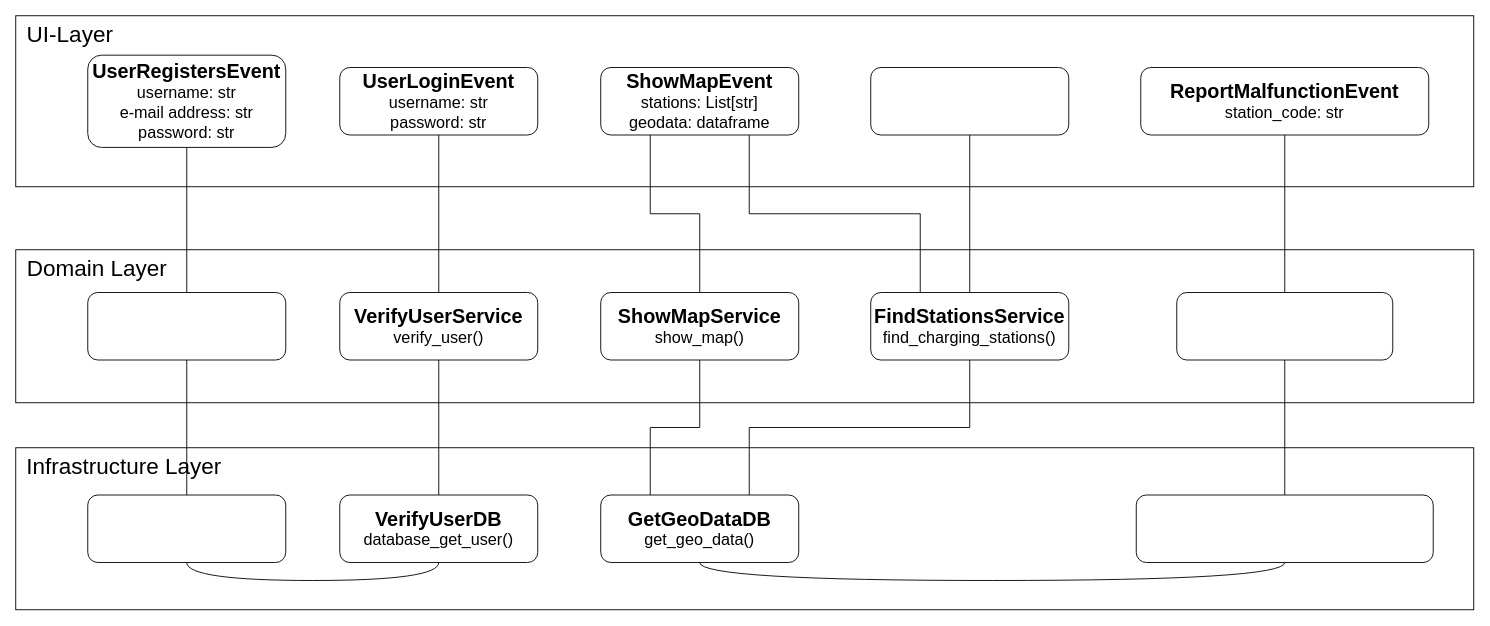
This 1490x626 diagram has some shape labels left out. Here are the shapes that lost their labels. From the top down, the box of each, then its label:
(870, 67, 1069, 135): StationSearchEvent postal_code: str
(87, 292, 286, 360): AddUserService add_user()
(1176, 292, 1393, 360): SetMalfunctionService set_station_malfunctional()
(87, 494, 286, 562): AddNewUserDB database_add_user()
(1135, 494, 1433, 562): SetMalfunctionDB database_set_station_malfunctional()
